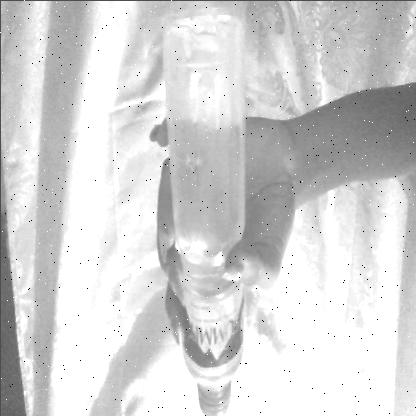Plastic Bottle: (156, 2, 251, 416)
